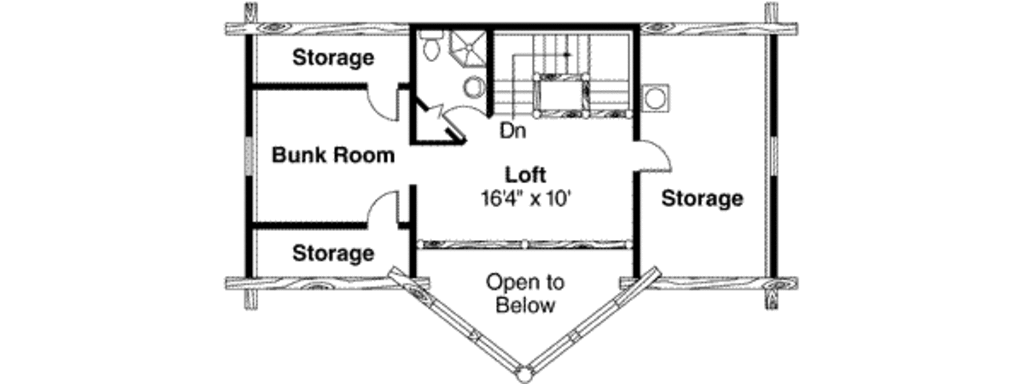door: (357, 76, 405, 124), (443, 100, 489, 146), (633, 138, 682, 178), (368, 187, 402, 230)
large_sink: (416, 23, 444, 66)
small_sink: (459, 70, 495, 103)
stairs: (500, 31, 635, 118)
window: (241, 136, 262, 176), (766, 132, 782, 178)
